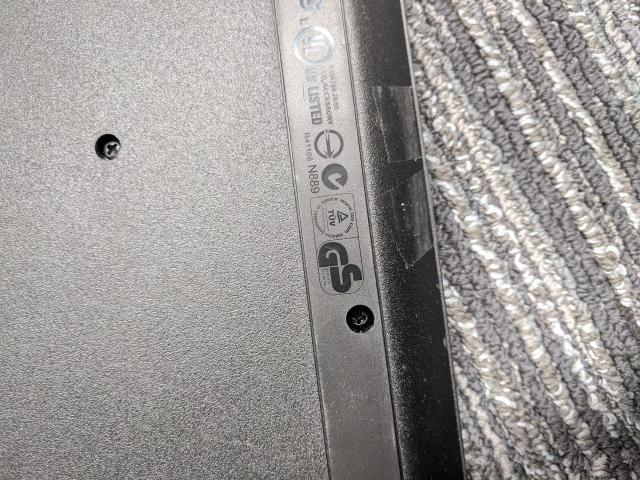CRS: (347, 304, 374, 332), (99, 136, 125, 162)
